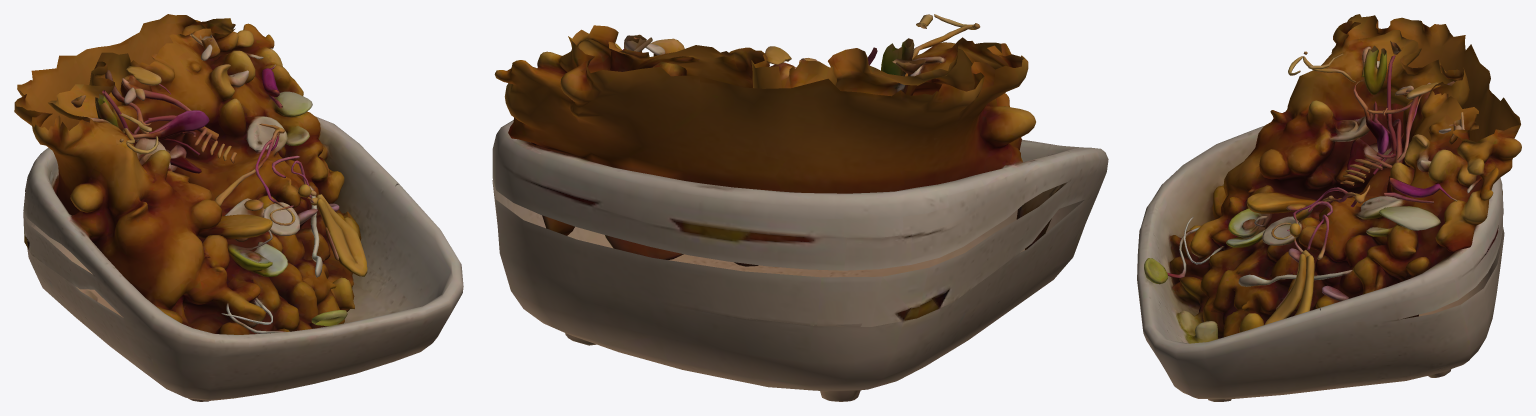
The model's file is crispy-pork-ribs-lite.glb.
The picture shows the model from 3 angles, left to right: view 1: azimuth 30°, elevation 25°; view 2: azimuth 150°, elevation 25°; view 3: azimuth 270°, elevation 25°; orthographic projection. The views are drawn at different scales.
Visible parts, largest first — view 1: tripo_node_278c5c5c-d4af-41bc-bc59-02ed427a9170; view 2: tripo_node_278c5c5c-d4af-41bc-bc59-02ed427a9170; view 3: tripo_node_278c5c5c-d4af-41bc-bc59-02ed427a9170.
Boxes of the visible parts, bbox=[...] form: tripo_node_278c5c5c-d4af-41bc-bc59-02ed427a9170: bbox=[14, 14, 463, 401]; tripo_node_278c5c5c-d4af-41bc-bc59-02ed427a9170: bbox=[492, 14, 1108, 401]; tripo_node_278c5c5c-d4af-41bc-bc59-02ed427a9170: bbox=[1137, 14, 1521, 401].
Bounding box in the file's own units: 0.2 × 0.1393 × 0.1898.
1 material, 1 textured.
